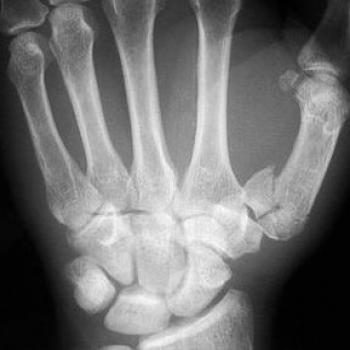Fracture: (240, 162, 294, 225)
